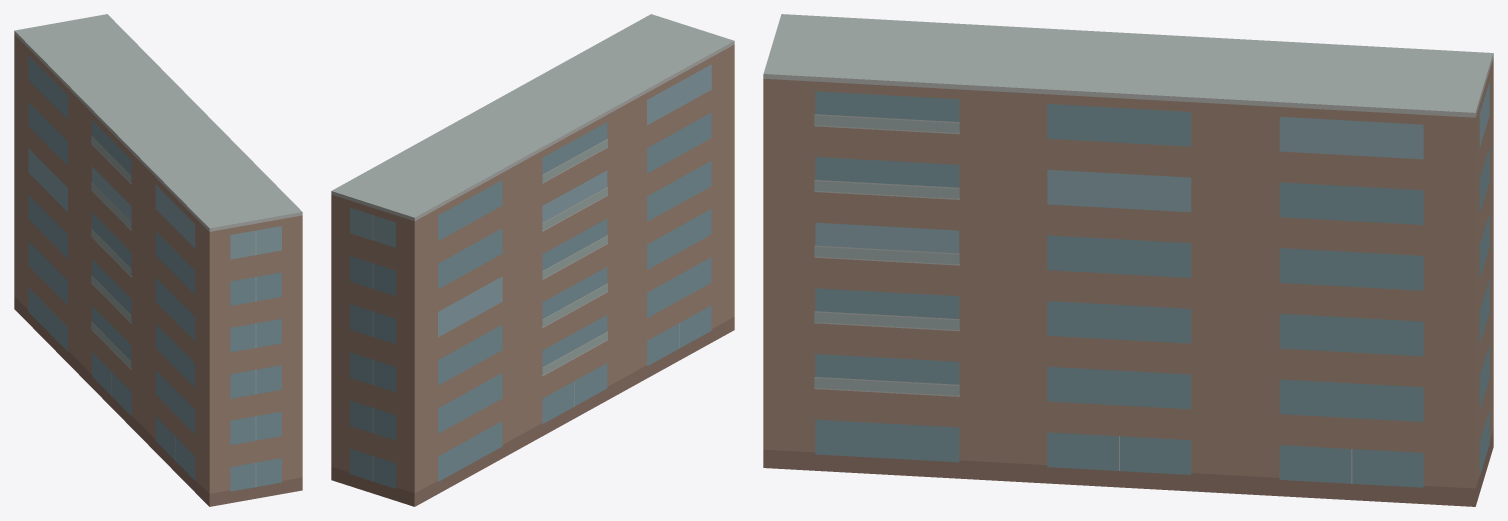
The model's file is survey-upis-32532520.glb.
3 renders of one model, left to right at view 1: azimuth 30°, elevation 25°; view 2: azimuth 150°, elevation 25°; view 3: azimuth 270°, elevation 25°, orthographic. The views are drawn at different scales.
Visible parts, largest first — view 1: survey-upis-32532520.tmp; view 2: survey-upis-32532520.tmp; view 3: survey-upis-32532520.tmp.
Part boxes in pixels (left/top/right/bottom): survey-upis-32532520.tmp: left=14, top=14, right=302, bottom=506; survey-upis-32532520.tmp: left=331, top=14, right=734, bottom=506; survey-upis-32532520.tmp: left=763, top=14, right=1493, bottom=506.
Size of the model in its own units: 10.72 by 19.9 by 33.43.
